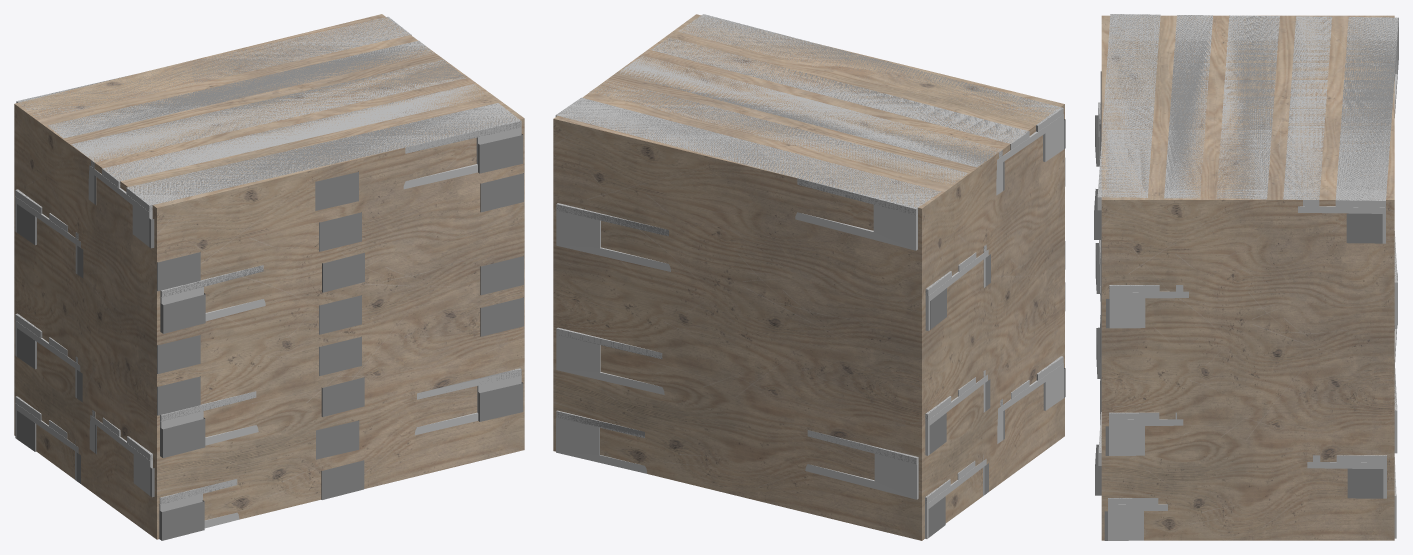
The model's file is pallet_stack.DAE.
3 renders of one model, left to right at view 1: azimuth 30°, elevation 25°; view 2: azimuth 150°, elevation 25°; view 3: azimuth 270°, elevation 25°, orthographic. The views are drawn at different scales.
Parts seen in each view (by area): view 1: Colmesh-1, pallet_stack30, pallet_stack300; view 2: Colmesh-1, pallet_stack300, pallet_stack30; view 3: Colmesh-1, pallet_stack300, pallet_stack30.
Boxes of the visible parts, x1,y1,x2,y2 form: Colmesh-1: [14, 14, 524, 539]; pallet_stack30: [16, 17, 523, 540]; pallet_stack300: [15, 16, 521, 528]; Colmesh-1: [553, 14, 1064, 540]; pallet_stack300: [555, 14, 1063, 538]; pallet_stack30: [555, 14, 1065, 537]; Colmesh-1: [1101, 15, 1394, 540]; pallet_stack300: [1097, 14, 1398, 540]; pallet_stack30: [1094, 14, 1398, 540].
Size of the model in its own units: 123 by 84.33 by 104.
